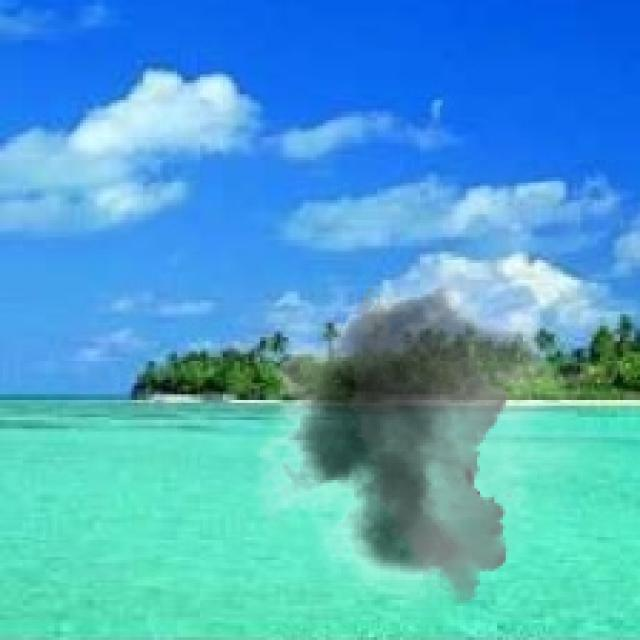Smoke: (237, 257, 606, 606)
